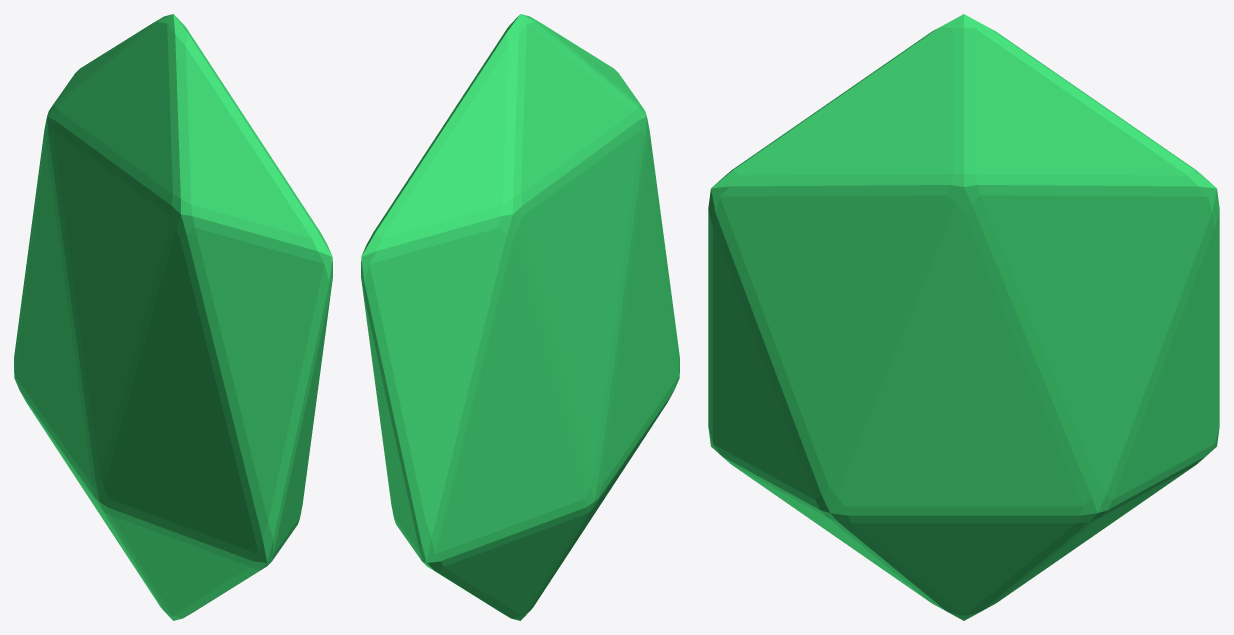
The model's file is gem.fbx.
The picture shows the model from 3 angles, left to right: view 1: azimuth 30°, elevation 25°; view 2: azimuth 150°, elevation 25°; view 3: azimuth 270°, elevation 25°; orthographic projection.
Visible parts, largest first — view 1: gem; view 2: gem; view 3: gem.
Boxes of the visible parts, left/top/right/bottom form: gem: left=14, top=14, right=332, bottom=620; gem: left=361, top=14, right=679, bottom=620; gem: left=708, top=14, right=1219, bottom=620.
Size of the model in its own units: 53.53 by 210 by 160.
